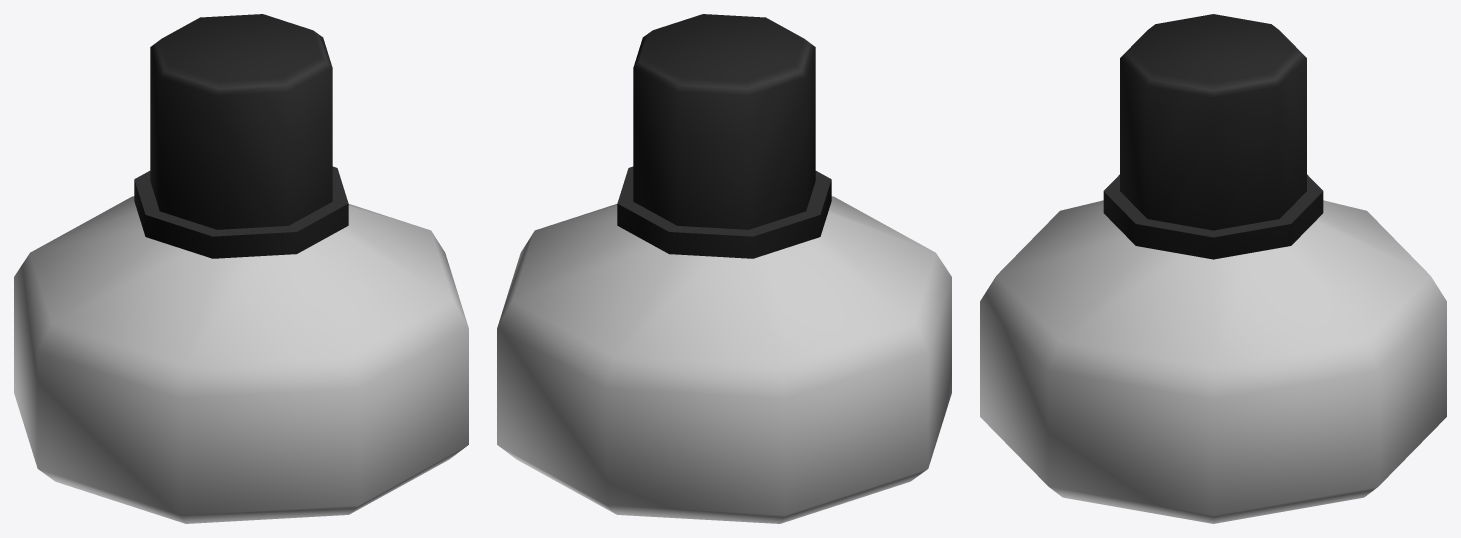
The model's file is CR_sci_Lamp_002.FBX.
3 renders of one model, left to right at view 1: azimuth 30°, elevation 25°; view 2: azimuth 150°, elevation 25°; view 3: azimuth 270°, elevation 25°, orthographic.
Visible parts, largest first — view 1: CR_sci_Lamp_002_al, CR_sci_Lamp_002; view 2: CR_sci_Lamp_002_al, CR_sci_Lamp_002; view 3: CR_sci_Lamp_002_al, CR_sci_Lamp_002.
Boxes of the visible parts, x1=… form: CR_sci_Lamp_002_al: x1=14, y1=196, x2=468, y2=523; CR_sci_Lamp_002: x1=134, y1=14, x2=348, y2=258; CR_sci_Lamp_002_al: x1=497, y1=196, x2=951, y2=523; CR_sci_Lamp_002: x1=617, y1=14, x2=831, y2=258; CR_sci_Lamp_002_al: x1=980, y1=200, x2=1446, y2=523; CR_sci_Lamp_002: x1=1103, y1=14, x2=1323, y2=259.
Size of the model in its own units: 10.23 by 9.31 by 10.23.
